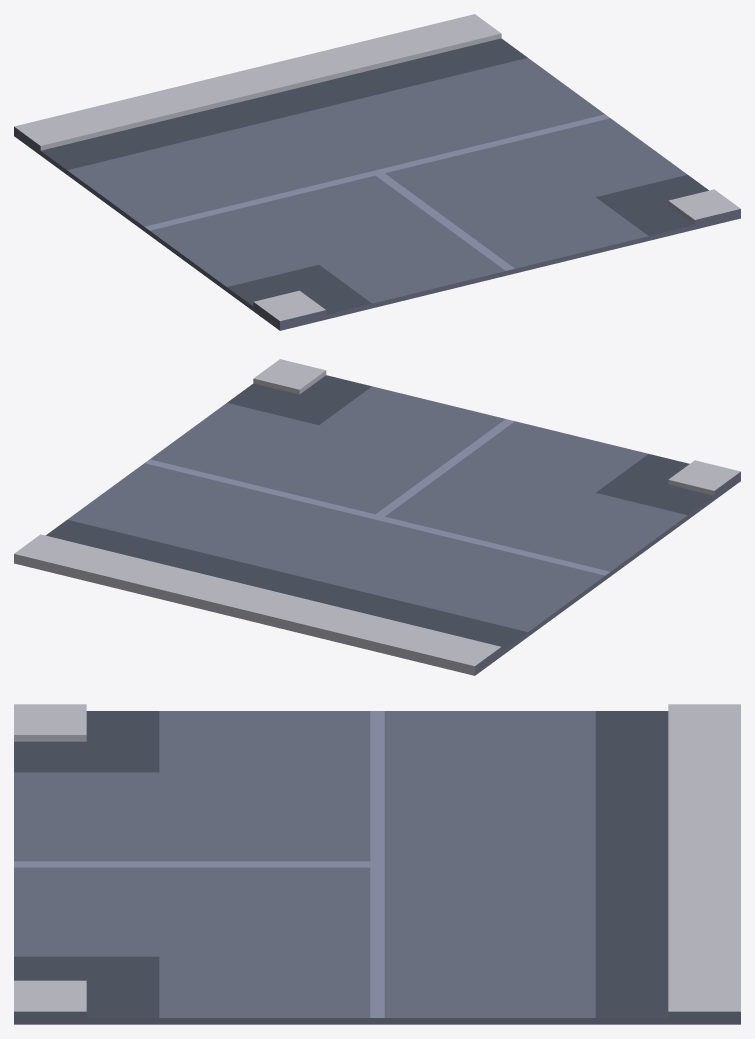
The model's file is road_intersectionLine.glb.
The picture shows the model from 3 angles, top to bottom: view 1: azimuth 30°, elevation 25°; view 2: azimuth 150°, elevation 25°; view 3: azimuth 270°, elevation 25°; orthographic projection. The views are drawn at different scales.
Parts seen in each view (by area): view 1: road_intersectionLine_4b5305, road_intersectionLine_e84c66, road_intersectionLine_6bfa27, road_intersectionLine_eaf315; view 2: road_intersectionLine_4b5305, road_intersectionLine_6bfa27, road_intersectionLine_e84c66, road_intersectionLine_eaf315; view 3: road_intersectionLine_4b5305, road_intersectionLine_e84c66, road_intersectionLine_6bfa27, road_intersectionLine_eaf315.
Boxes of the visible parts, x1,y1,x2,y2 form: road_intersectionLine_4b5305: [14, 58, 740, 330]; road_intersectionLine_e84c66: [41, 38, 708, 314]; road_intersectionLine_6bfa27: [14, 14, 740, 321]; road_intersectionLine_eaf315: [144, 114, 610, 270]; road_intersectionLine_4b5305: [67, 386, 740, 675]; road_intersectionLine_6bfa27: [14, 359, 740, 675]; road_intersectionLine_e84c66: [46, 375, 713, 650]; road_intersectionLine_eaf315: [144, 419, 610, 575]; road_intersectionLine_4b5305: [14, 711, 740, 1024]; road_intersectionLine_e84c66: [14, 711, 668, 1017]; road_intersectionLine_6bfa27: [14, 704, 740, 1011]; road_intersectionLine_eaf315: [14, 711, 384, 1017].
Size of the model in its own units: 1 by 0.02 by 1.
